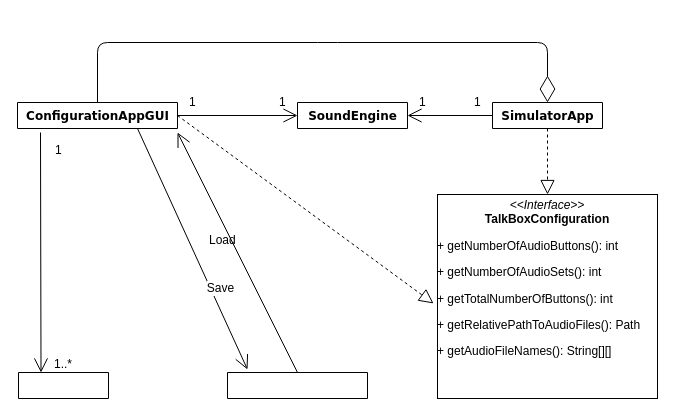
Image size: 675x416. Some labels were removed from this diagram. The centre of each missing label's shape, as x and y in pixels:
ResourceManager: [297,385]
SaveData: [63,385]
